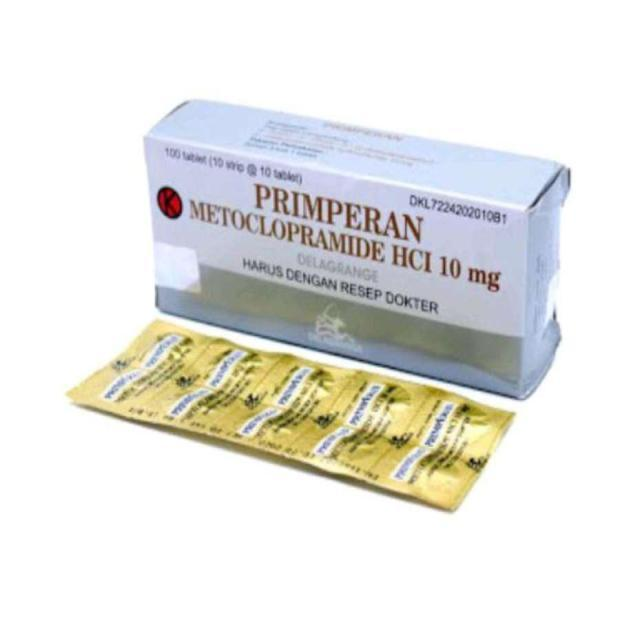drug-name: (252, 176, 427, 245)
